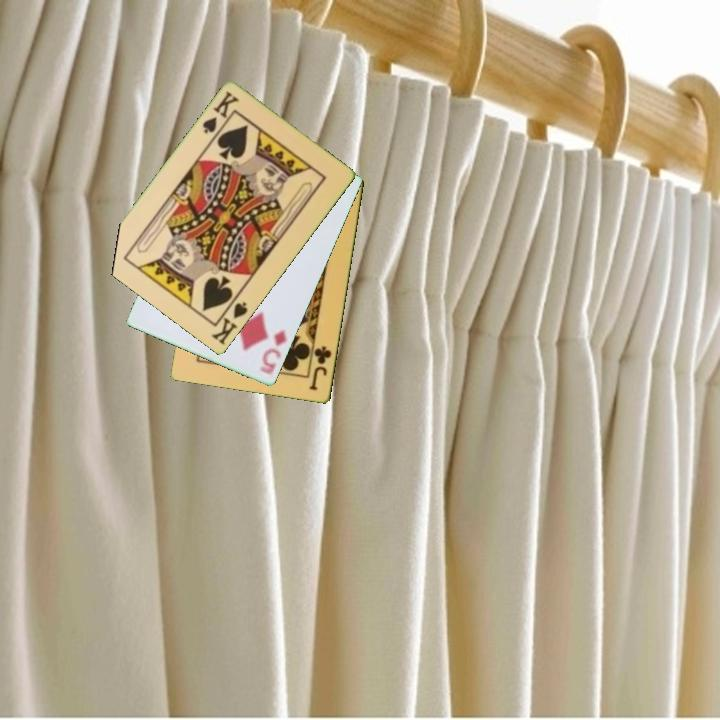5d: (256, 326, 290, 378)
Jc: (306, 343, 334, 394)
Ks: (208, 292, 251, 348), (199, 88, 242, 137)
